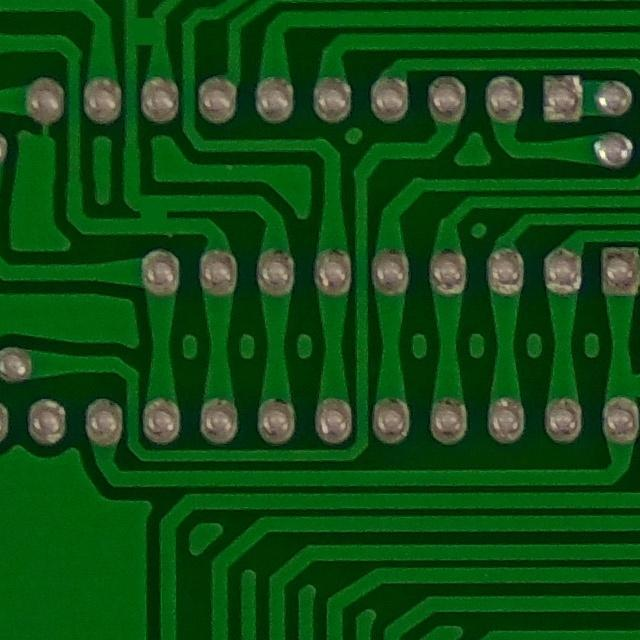short: (126, 184, 189, 244), (119, 5, 177, 56)
